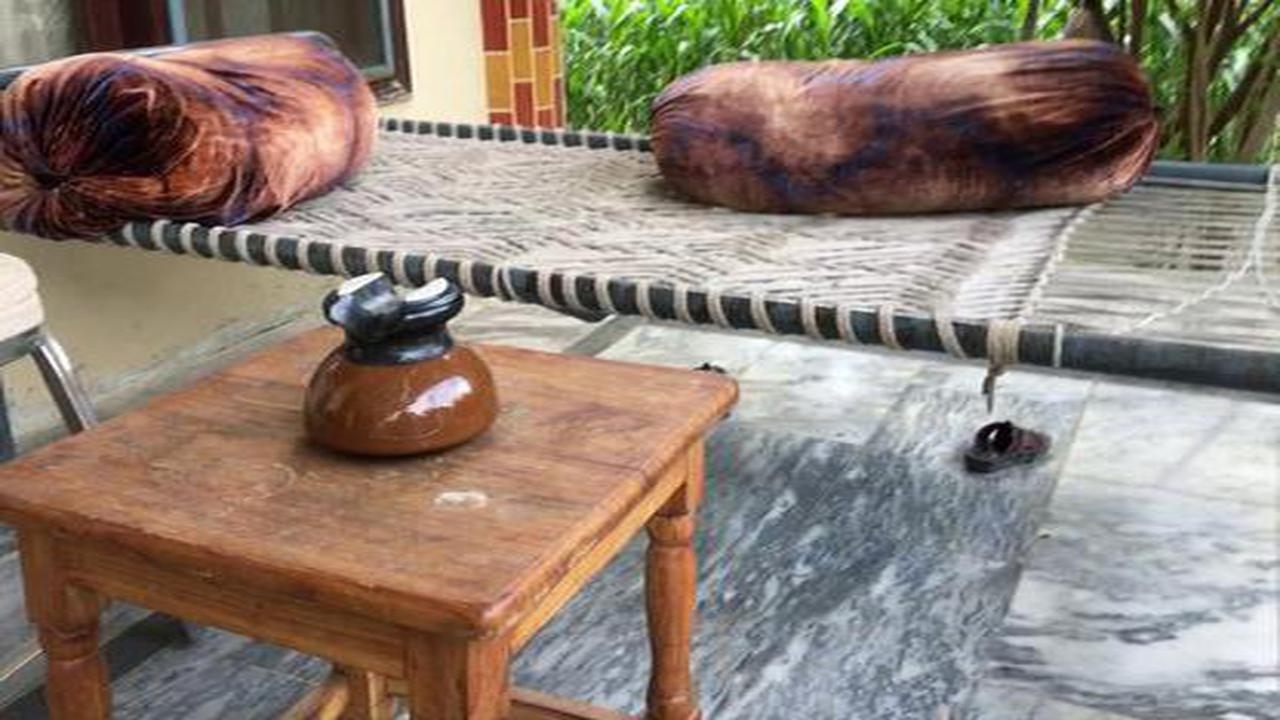insulator_pin: (281, 260, 521, 470)
